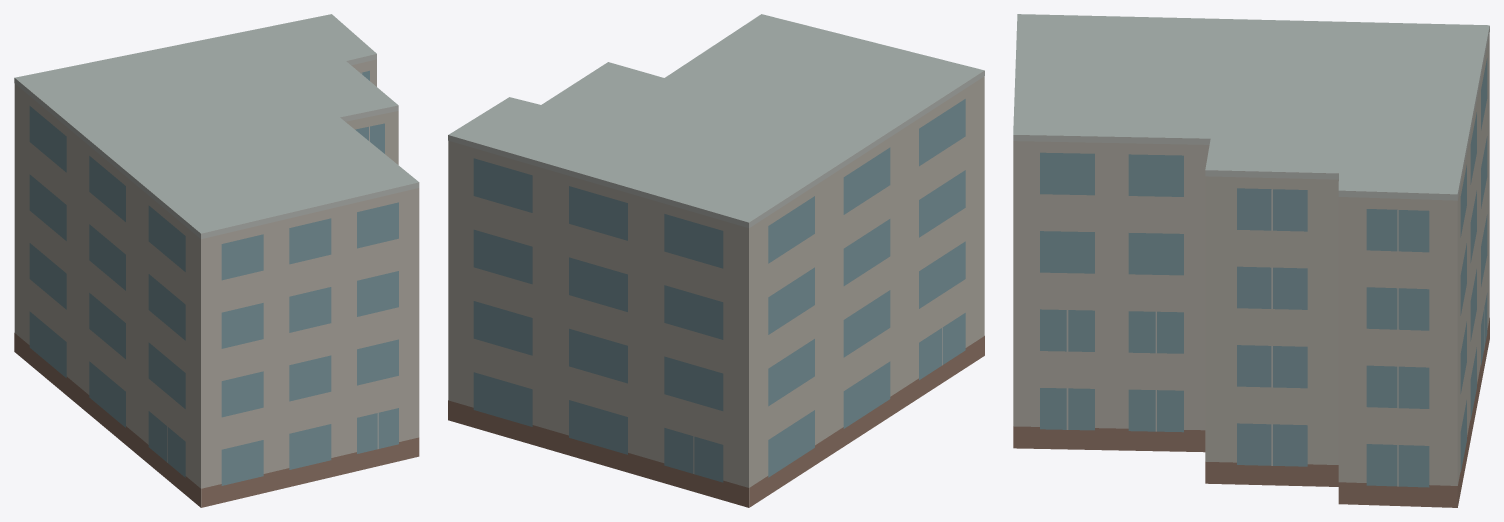
Rendered from survey-upis-32768707.glb.
3 views of the same model, side by side, from view 1: azimuth 30°, elevation 25°; view 2: azimuth 150°, elevation 25°; view 3: azimuth 270°, elevation 25° (orthographic). The views are drawn at different scales.
Parts seen in each view (by area): view 1: survey-upis-32768707.tmp; view 2: survey-upis-32768707.tmp; view 3: survey-upis-32768707.tmp.
Boxes of the visible parts, x1=… form: survey-upis-32768707.tmp: x1=14, y1=14, x2=419, y2=507; survey-upis-32768707.tmp: x1=448, y1=14, x2=984, y2=507; survey-upis-32768707.tmp: x1=1013, y1=14, x2=1489, y2=507.
Size of the model in its own units: 15.06 by 12.2 by 16.82.
